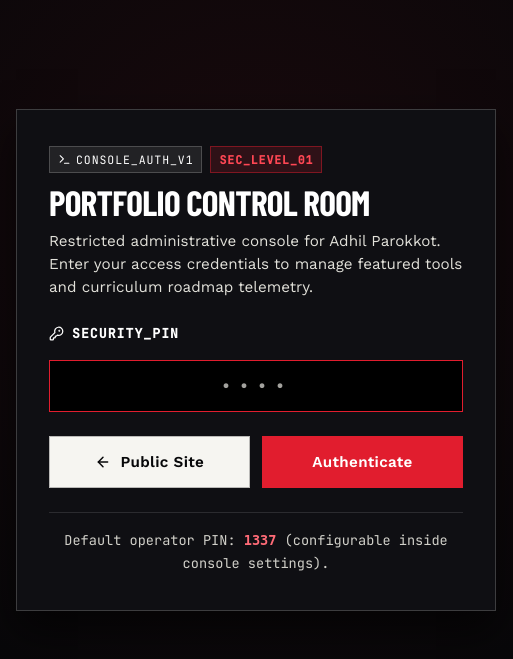
Test case: AdminGate component › shows error message and tracks attempts on incorrect PIN
Type "0000" into the password field labelled "SECURITY_PIN". click: {"x": 256, "y": 386}
box: [49, 360, 463, 412]
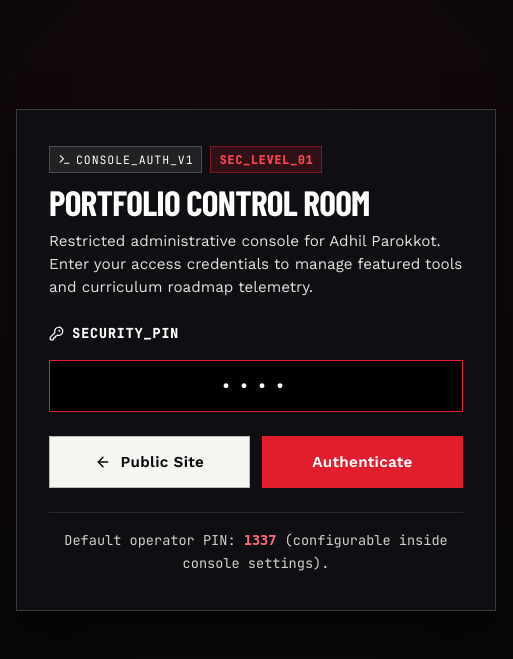
Click the button "Authenticate". click: {"x": 362, "y": 462}
box: [262, 436, 463, 488]
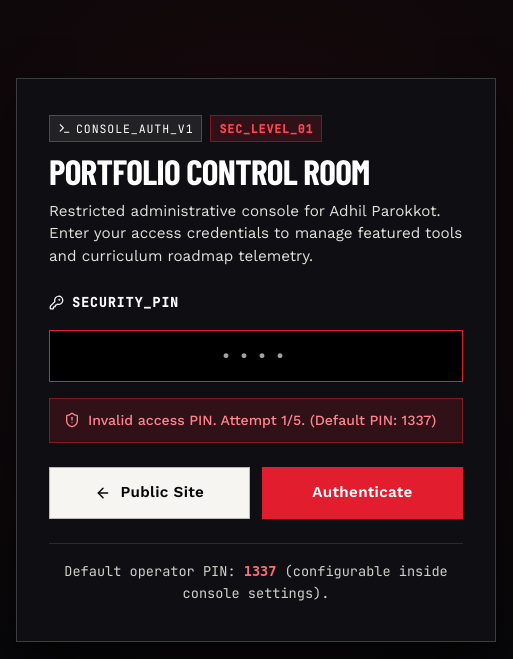
Expected: the message shows "Invalid access PIN", [88, 412, 436, 428]
